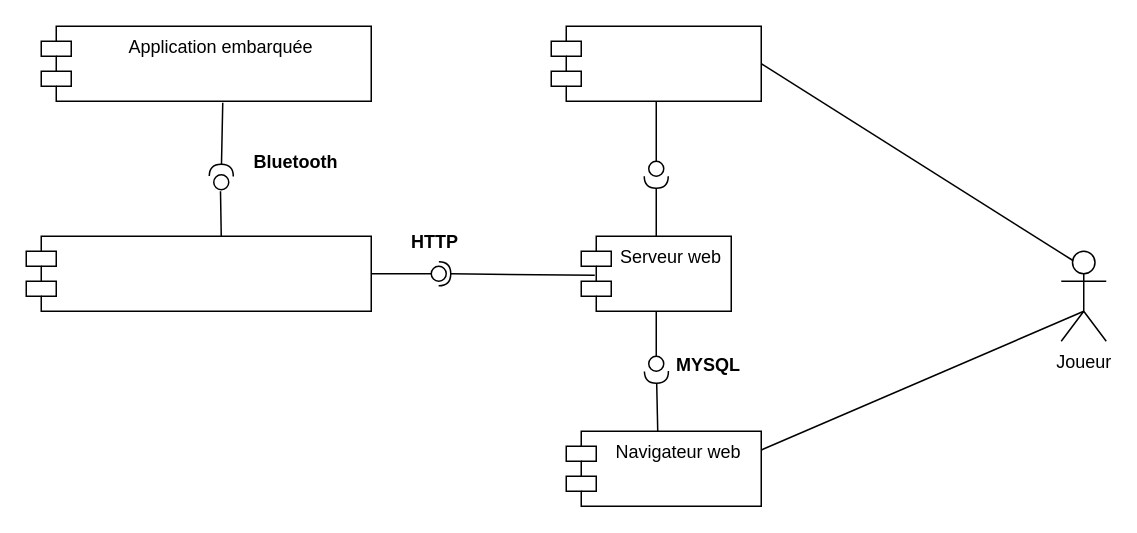
This 1137x533 diagram has some shape labels left out. Here are the shapes that lost their labels. From the top down, the box of each, then its label:
(550, 25, 761, 101): Application mobile
(25, 235, 371, 311): SGBD (gestion de base de données)
